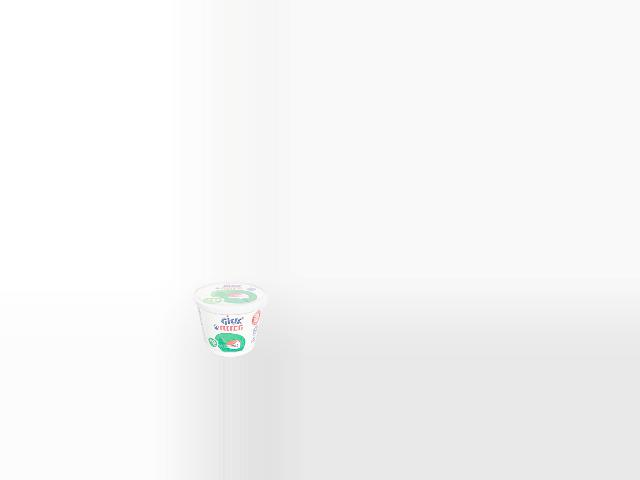cotage: (191, 281, 269, 356)
